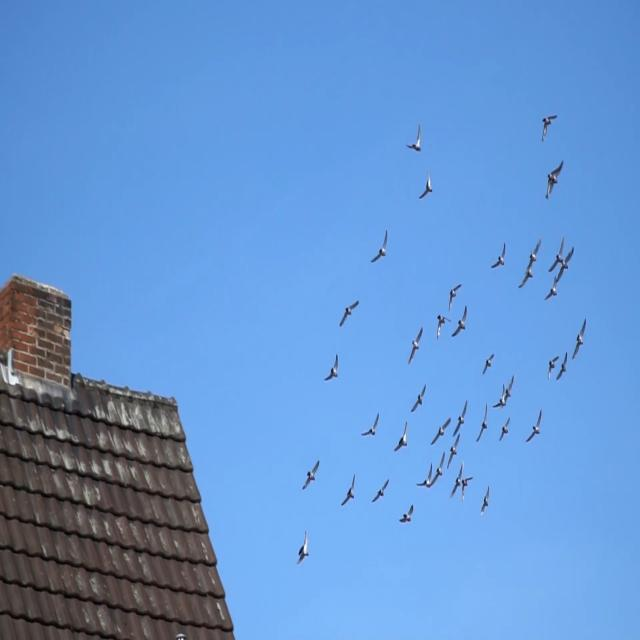bird: (544, 159, 565, 202), (554, 246, 576, 284), (406, 324, 424, 366), (571, 315, 587, 362), (430, 414, 452, 446), (548, 237, 567, 274), (451, 302, 469, 341), (302, 457, 322, 491), (428, 451, 446, 488), (370, 229, 389, 264), (448, 461, 465, 500), (452, 397, 468, 438), (338, 297, 359, 328), (410, 380, 428, 416), (340, 472, 357, 508), (526, 408, 542, 446), (393, 417, 409, 455), (446, 432, 462, 470), (476, 402, 490, 444), (490, 239, 507, 273), (541, 113, 559, 144), (404, 121, 422, 152), (435, 310, 452, 342), (323, 352, 340, 384), (360, 410, 380, 437), (296, 528, 310, 566), (518, 263, 538, 289), (370, 478, 390, 504), (416, 462, 434, 489), (418, 168, 433, 200), (447, 282, 463, 312), (526, 237, 541, 267), (554, 352, 569, 382), (398, 501, 416, 525), (492, 383, 507, 411), (481, 350, 496, 377), (479, 484, 491, 517), (461, 474, 474, 504), (544, 274, 558, 301), (497, 413, 511, 439), (547, 354, 560, 381), (504, 374, 515, 402)
